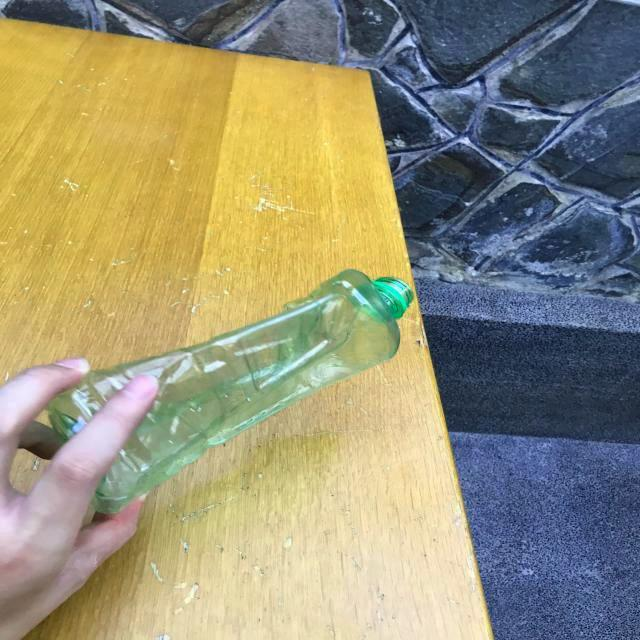bottle: (46, 269, 414, 515)
